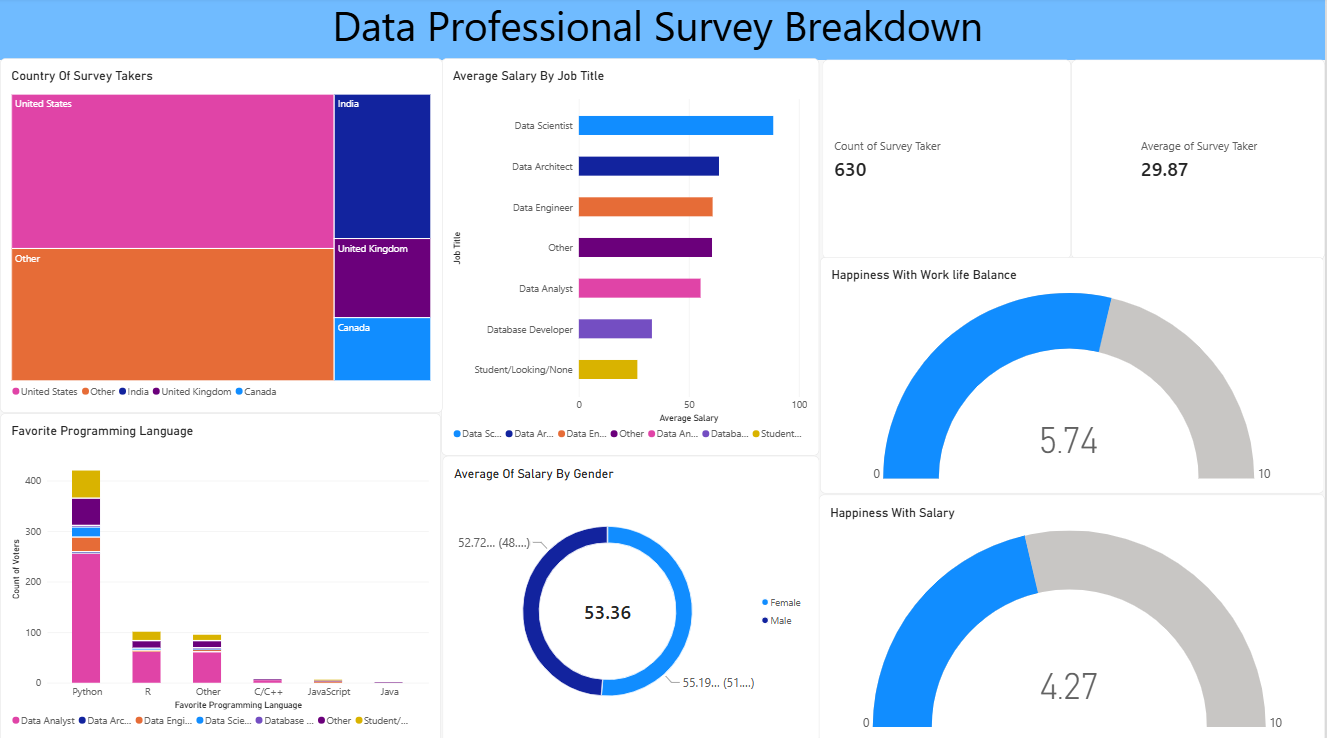

The dashboard page shown, as its layout file describes it:
{"tool":"powerbi","page":{"name":"Page 1","canvas":[1920,1080],"ordinal":0},"visuals":[{"type":"textbox","box":[0,0,1920.4,91.2],"z":0},{"type":"cardVisual","fields":{"Data":["CountNonNull(Data Professional Survey.Unique ID)"]},"box":[1190.8,90.5,360.1,289.5],"z":1000},{"type":"cardVisual","fields":{"Data":["Avg(Data Professional Survey.Q10 - Current Age)"]},"box":[1550.9,90.5,369.2,289.5],"z":2000},{"type":"barChart","title":"Average Salary By Job Title  ","fields":{"Category":["Data Professional Survey.Q1 - Which Title Best Fits your Current Role?.1"],"Series":["Data Professional Survey.Q1 - Which Title Best Fits your Current Role?.1"],"Y":["Avg(Data Professional Survey.Average Salary )"]},"box":[638.3,89.3,547.1,575],"z":3000},{"type":"columnChart","title":"Favorite Programming Language","fields":{"Category":["Data Professional Survey.Q5 - Favorite Programming Language.1.1"],"Series":["Data Professional Survey.Q1 - Which Title Best Fits your Current Role?.1"],"Y":["CountNonNull(Data Professional Survey.Unique ID)"]},"box":[0,602.9,638.3,476.4],"z":4000},{"type":"treemap","title":"Country Of Survey Takers ","fields":{"Group":["Data Professional Survey.Q11 - Which Country do you live in?.1"],"Values":["CountNonNull(Data Professional Survey.Q11 - Which Country do you live in?.1)"]},"box":[0,88.7,640.6,513.9],"z":5000},{"type":"gauge","title":"Happiness With Work life Balance ","fields":{"MaxValue":["Max(Data Professional Survey.Q6 - How Happy are you in your Current Position with the following? (Work/Life Balance))2"],"MinValue":["Min(Data Professional Survey.Q6 - How Happy are you in your Current Position with the following? (Work/Life Balance))1"],"Y":["Avg(Data Professional Survey.Q6 - How Happy are you in your Current Position with the following? (Work/Life Balance))"]},"box":[1187.1,376.4,729.4,342.4],"z":6000},{"type":"gauge","title":"Happiness With Salary ","fields":{"MaxValue":["Max(Data Professional Survey.Q6 - How Happy are you in your Current Position with the following? (Salary))2"],"MinValue":["Min(Data Professional Survey.Q6 - How Happy are you in your Current Position with the following? (Salary))1"],"Y":["Avg(Data Professional Survey.Q6 - How Happy are you in your Current Position with the following? (Salary))"]},"box":[1185.3,720.2,734.7,358.3],"z":7000},{"type":"donutChart","title":"Average Of Salary By Gender ","fields":{"Category":["Data Professional Survey.Q9 - Male/Female?"],"Y":["Avg(Data Professional Survey.Average Salary )"]},"box":[640.1,664.3,545.2,415],"z":8000}]}

Visuals, with their boxes in screenshot pixels (x1, y1, x2, y2), scaled from the page's 1920x1080 canvas onto the 1327x738 screenshot:
textbox: (x1=0, y1=0, x2=1326, y2=62)
cardVisual - CountNonNull(Data Professional Survey.Unique ID): (x1=823, y1=62, x2=1072, y2=260)
cardVisual - Avg(Data Professional Survey.Q10 - Current Age): (x1=1072, y1=62, x2=1326, y2=260)
"Average Salary By Job Title  " barChart: (x1=441, y1=61, x2=819, y2=454)
"Favorite Programming Language" columnChart: (x1=0, y1=412, x2=441, y2=737)
"Country Of Survey Takers " treemap: (x1=0, y1=61, x2=443, y2=412)
"Happiness With Work life Balance " gauge: (x1=820, y1=257, x2=1325, y2=491)
"Happiness With Salary " gauge: (x1=819, y1=492, x2=1326, y2=737)
"Average Of Salary By Gender " donutChart: (x1=442, y1=454, x2=819, y2=737)
